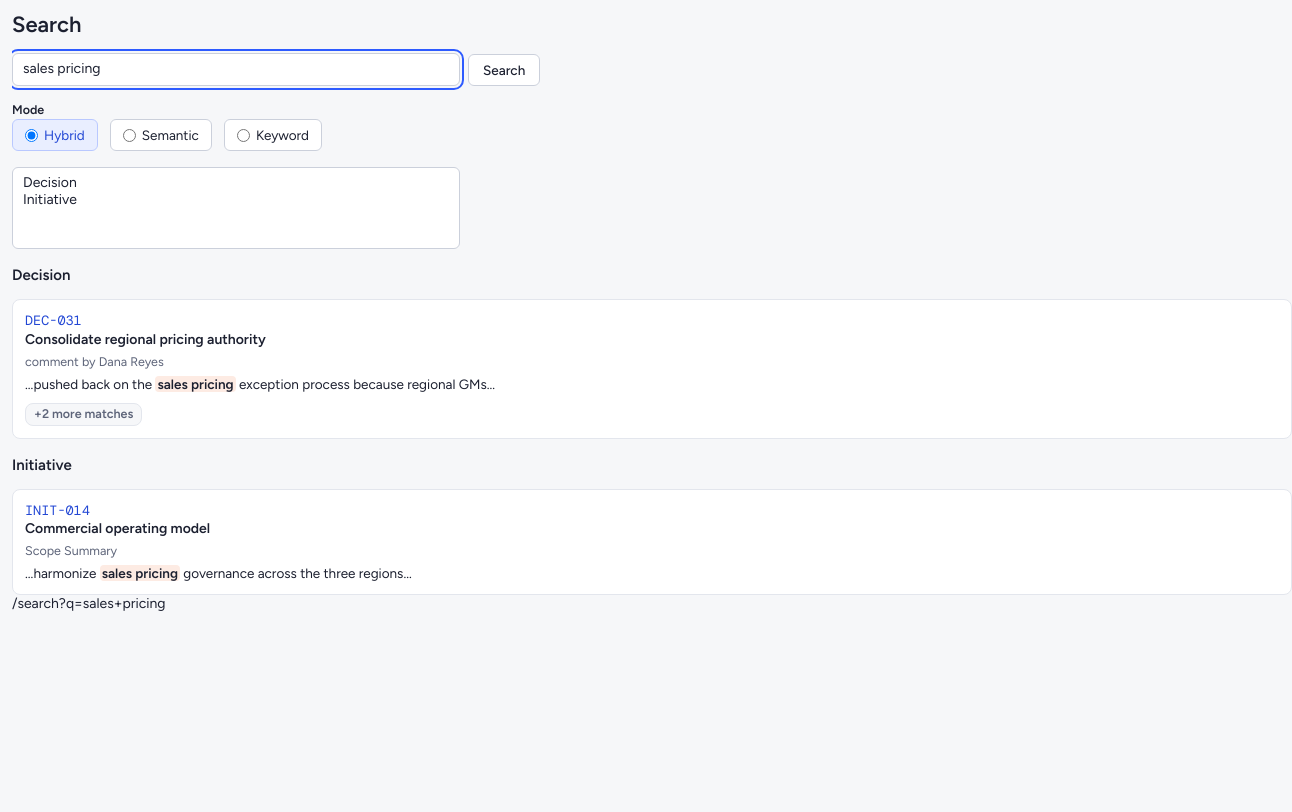
Scenario: SearchPage › switching the mode toggle updates the mode URL param and the next request body
This screenshot has width=1292, height=812.
Expected: the element with test id "search-result-DEC-031" is shown, top-left (12, 299), bottom-right (1291, 439)
Click the radio button labelled "Semantic". click: x=129, y=135
box: top-left (123, 129), bottom-right (136, 142)
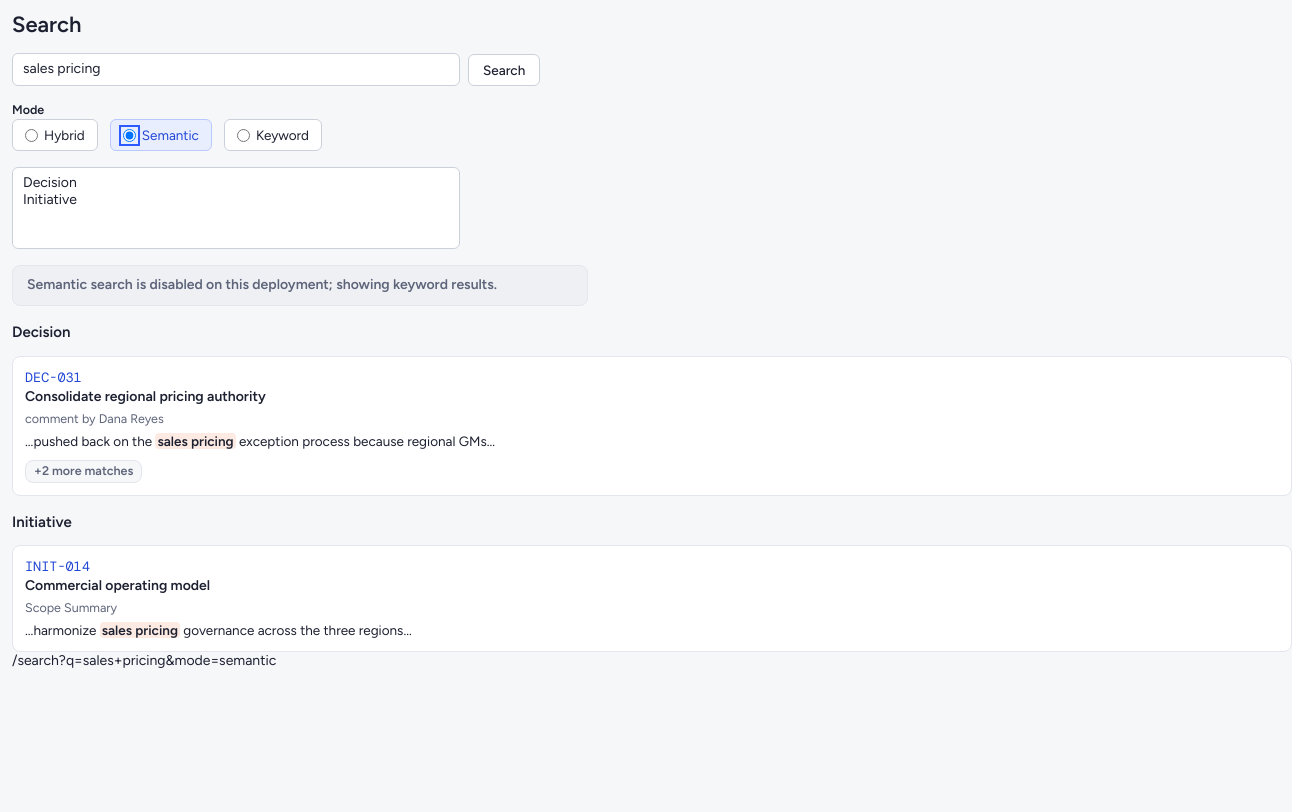
Result: the text with test id "location-probe" shows "mode=semantic" at top-left (12, 652), bottom-right (276, 669)
